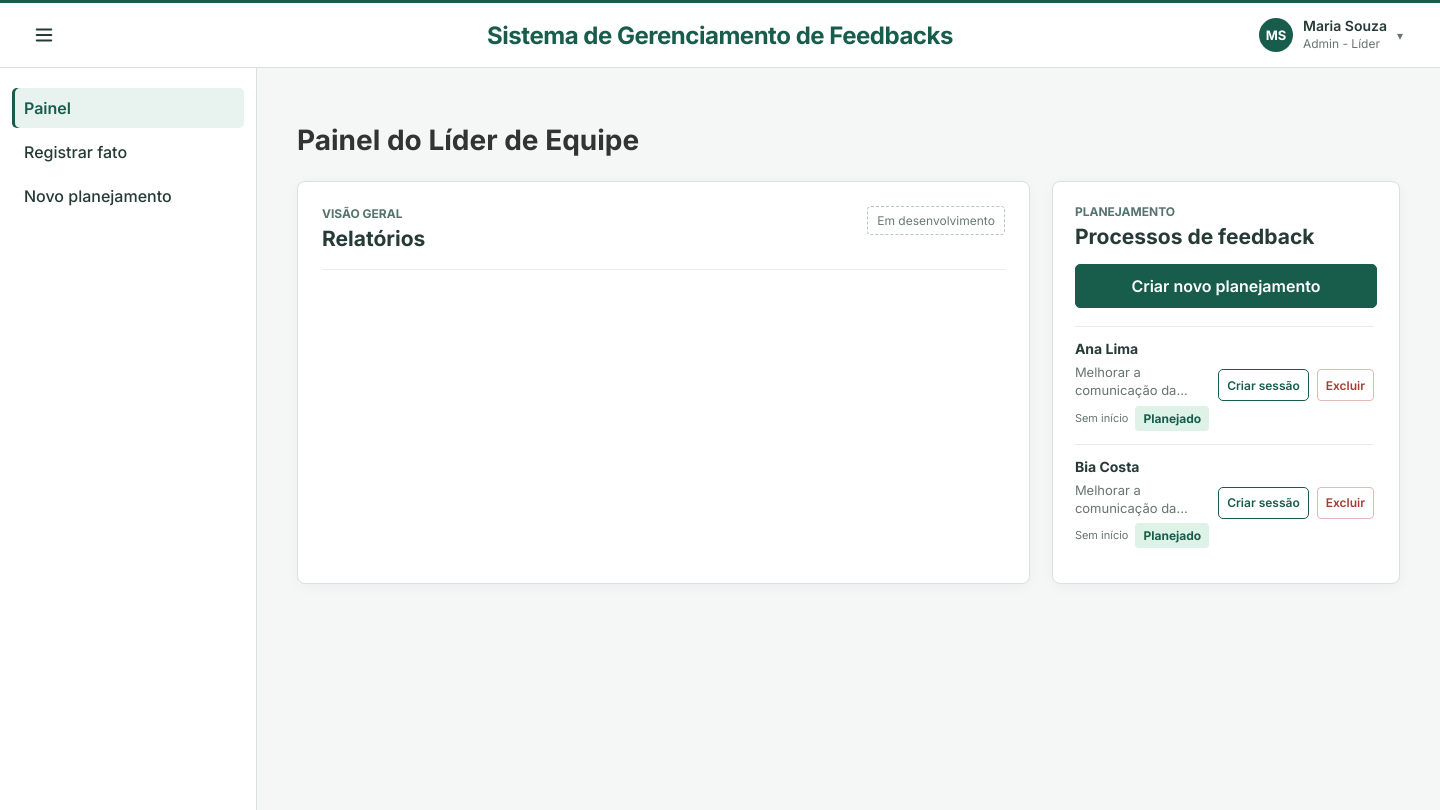
Dashboard › deve mostrar o erro quando a sessão não pode ser criada
The image size is (1440, 810).
What coordinates should you click on to do the following:
click the 1st button "Criar sessão"
I would click on:
 (1264, 385)
Its box is [1218,369,1309,401].
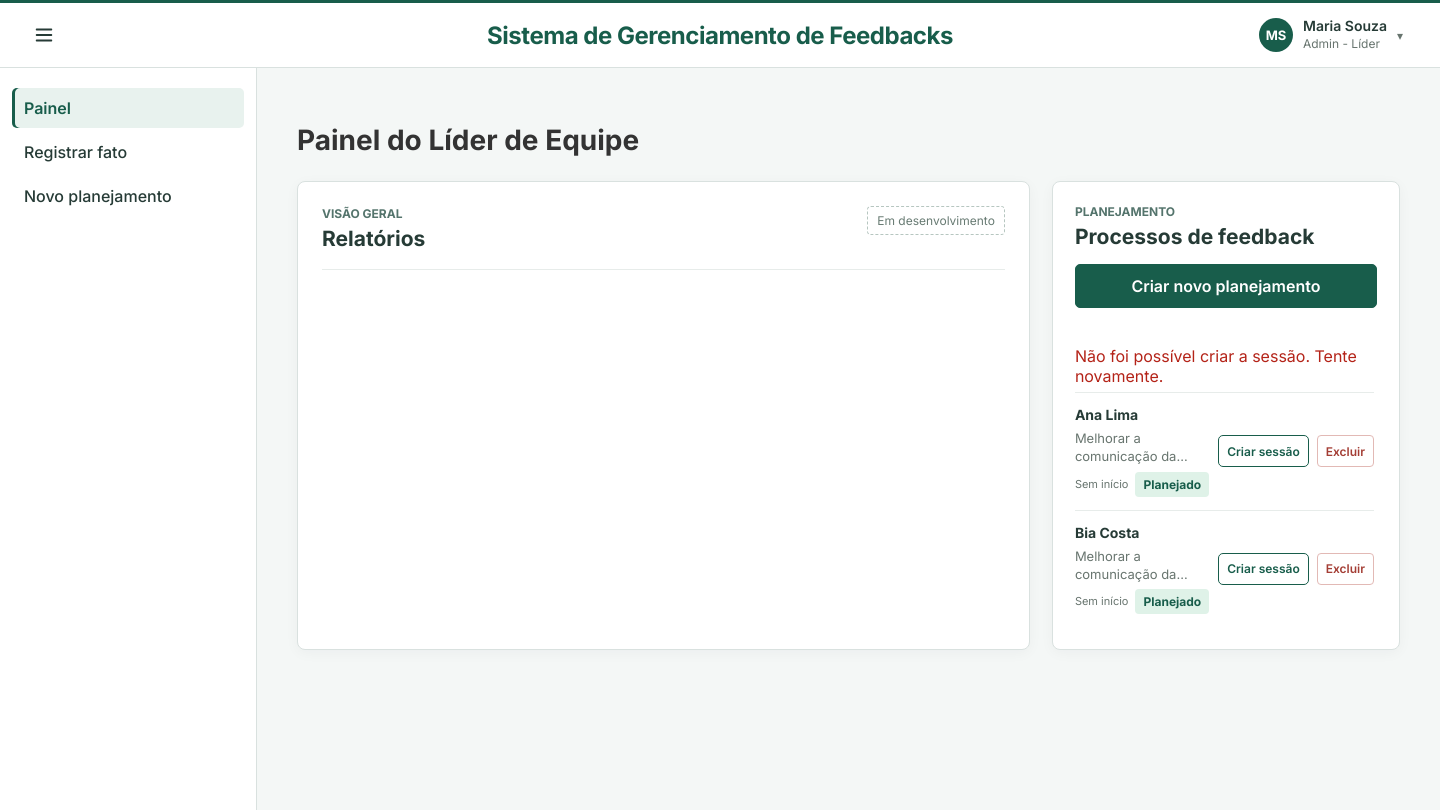
Check: the text "Não foi possível criar a sessão. Tente novamente." is shown, box [1075,326,1377,392]
